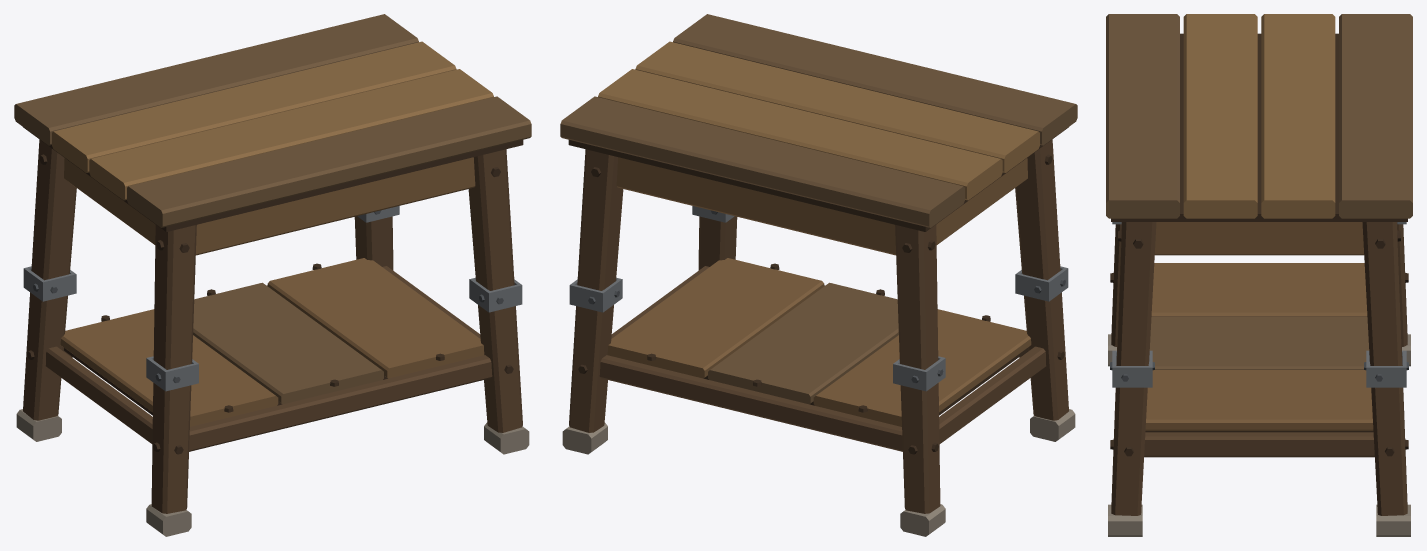
Rendered from SM_LPD_Furn_TableSmall_01.fbx.
3 views of the same model, side by side, from view 1: azimuth 30°, elevation 25°; view 2: azimuth 150°, elevation 25°; view 3: azimuth 270°, elevation 25° (orthographic). The views are drawn at different scales.
Visible parts, largest first — view 1: SM_LPD_Furn_TableSmall_01; view 2: SM_LPD_Furn_TableSmall_01; view 3: SM_LPD_Furn_TableSmall_01.
Part boxes in pixels (box(x1,y1,x2,y2)): SM_LPD_Furn_TableSmall_01: box(14, 14, 531, 536); SM_LPD_Furn_TableSmall_01: box(560, 14, 1077, 536); SM_LPD_Furn_TableSmall_01: box(1106, 14, 1412, 536).
Bounding box in the file's own units: 0.92 × 0.78 × 0.64.
